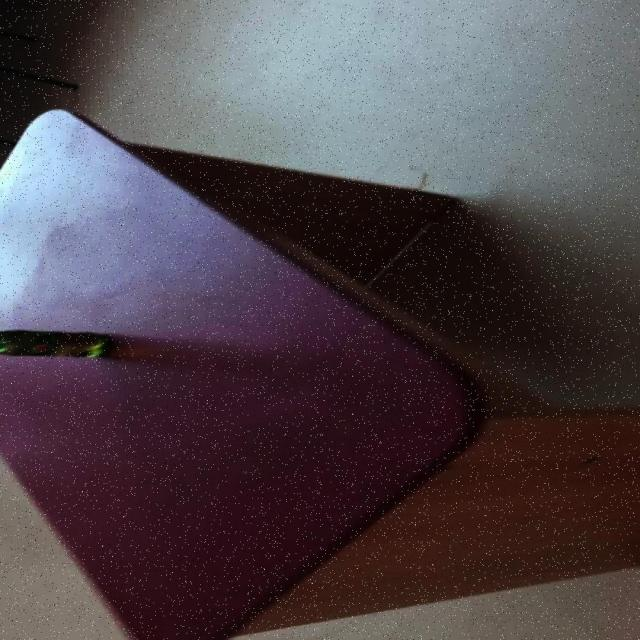Guarana: (0, 108, 488, 640), (0, 328, 116, 358)
